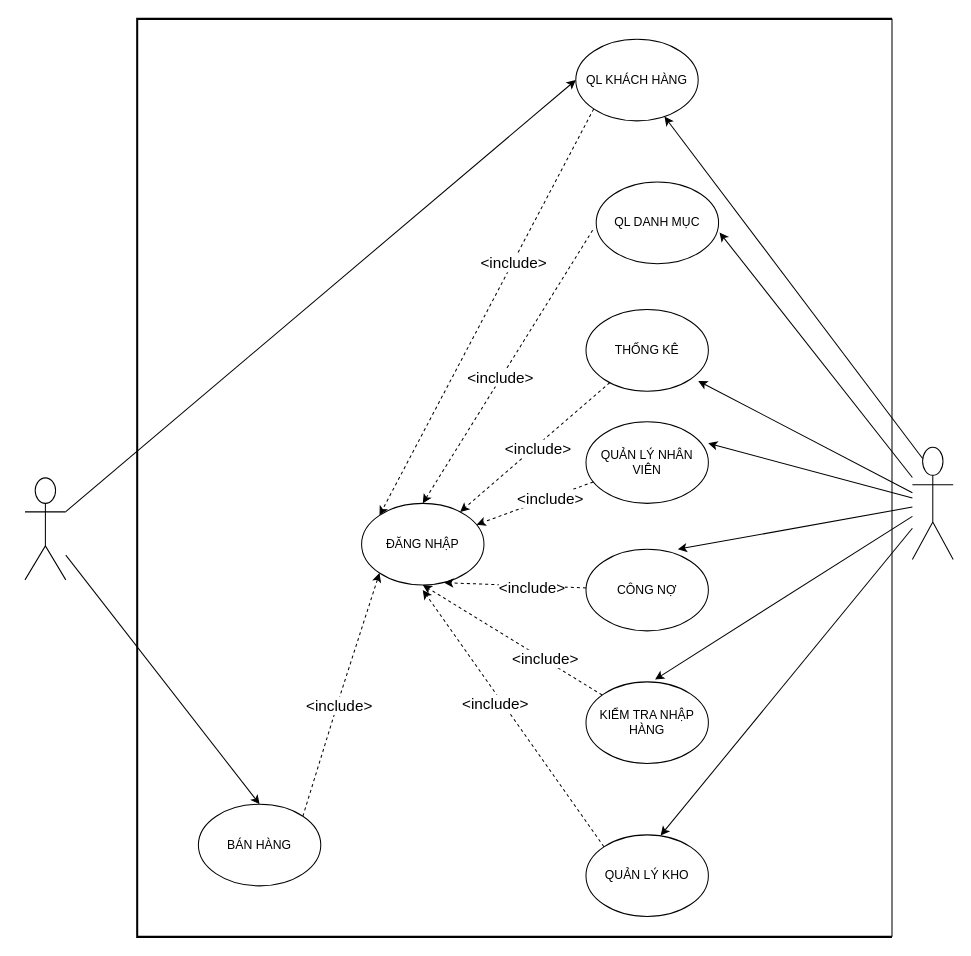
The diagram is 971 pixels wide and 956 high, and some of its shapes have lost their labels. The centre of each missing label's shape, as x and y in pixels:
"Nhân viên" belongs at pixel 45 528.
"Quản lý" belongs at pixel 932 502.
